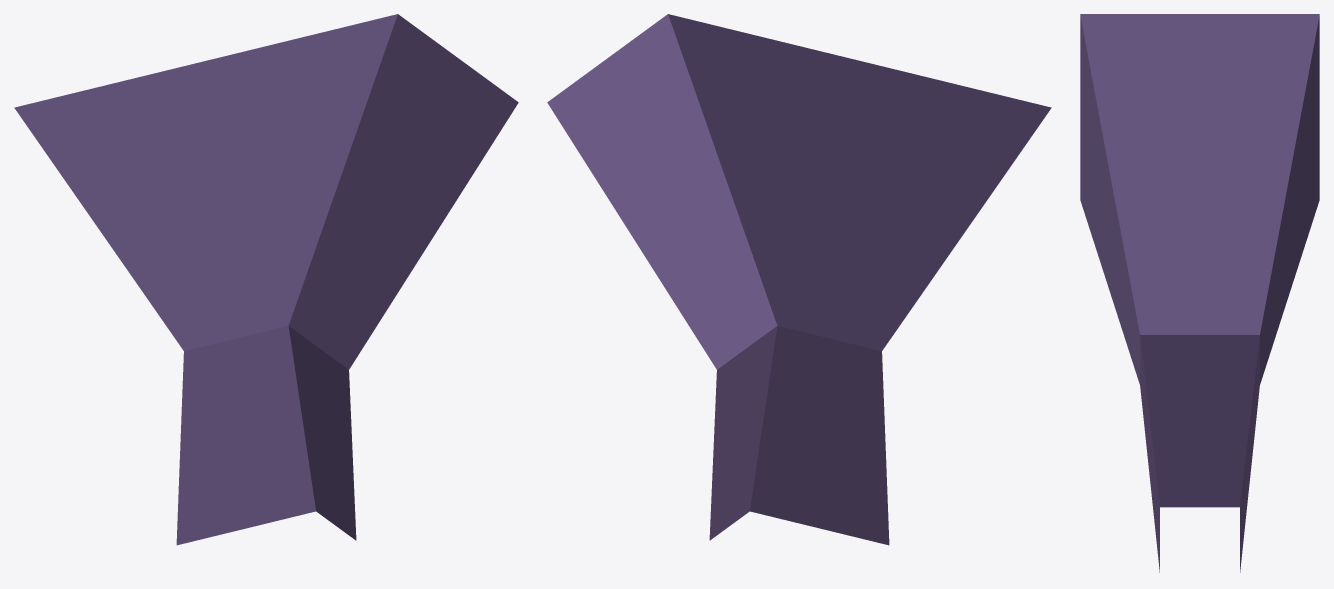
File: silk-evening-dress.gltf
3 renders of one model, left to right at view 1: azimuth 30°, elevation 25°; view 2: azimuth 150°, elevation 25°; view 3: azimuth 270°, elevation 25°, orthographic.
Visible parts, largest first — view 1: SilkEveningDress; view 2: SilkEveningDress; view 3: SilkEveningDress.
Boxes of the visible parts, x1,y1,x2,y2 form: SilkEveningDress: (14, 14, 518, 545); SilkEveningDress: (547, 14, 1051, 545); SilkEveningDress: (1080, 14, 1319, 572).
Bounding box in the file's own units: 110 × 120 × 60.
